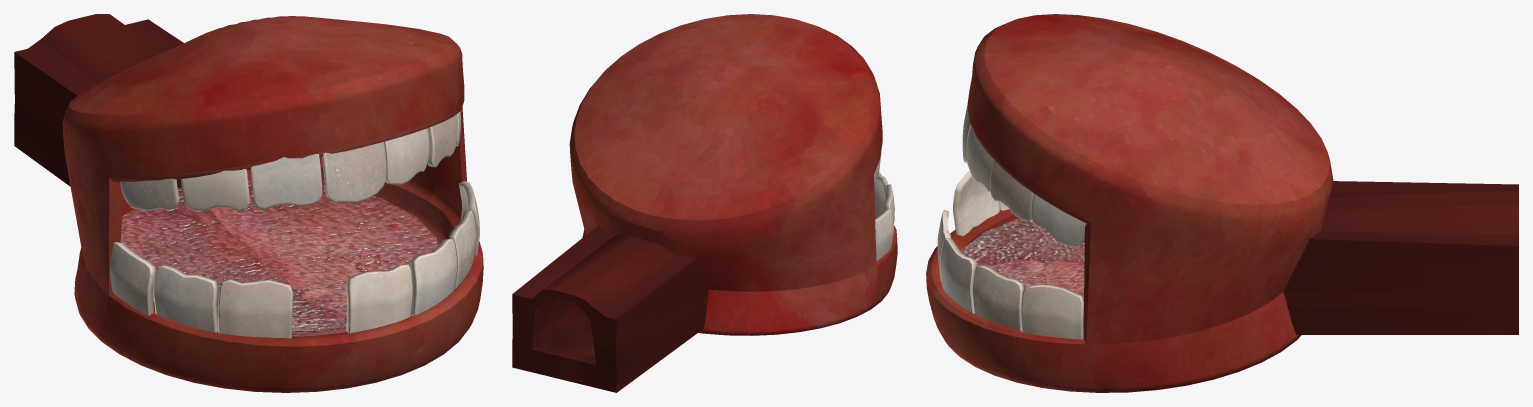
The model's file is MouthRoom-whole.fbx.
The picture shows the model from 3 angles, left to right: view 1: azimuth 30°, elevation 25°; view 2: azimuth 150°, elevation 25°; view 3: azimuth 270°, elevation 25°; orthographic projection. The views are drawn at different scales.
Parts seen in each view (by area): view 1: polySurface89, polySurface85, polySurface88, polySurface100, polySurface87, polySurface95, polySurface94, polySurface91, polySurface86, polySurface97, polySurface99, polySurface98 (+3 smaller); view 2: polySurface89, polySurface86, polySurface88; view 3: polySurface89, polySurface85, polySurface101, polySurface92, polySurface88, polySurface91, polySurface93, polySurface96, polySurface99.
Part boxes in pixels (box(x1,y1,x2,y2)): polySurface89: box(14, 14, 483, 392); polySurface85: box(120, 180, 437, 336); polySurface88: box(218, 279, 293, 338); polySurface100: box(346, 264, 413, 333); polySurface87: box(153, 265, 218, 332); polySurface95: box(250, 154, 322, 209); polySurface94: box(322, 142, 386, 202); polySurface91: box(410, 238, 457, 316); polySurface86: box(110, 242, 155, 315); polySurface97: box(181, 169, 249, 210); polySurface99: box(384, 128, 429, 184); polySurface98: box(120, 178, 179, 210); polySurface89: box(512, 14, 897, 392); polySurface86: box(875, 209, 894, 260); polySurface88: box(874, 171, 888, 216); polySurface89: box(926, 14, 1518, 392); polySurface85: box(961, 218, 1084, 337); polySurface101: box(1020, 284, 1083, 339); polySurface92: box(972, 265, 1024, 330); polySurface88: box(953, 171, 1000, 236); polySurface91: box(940, 238, 977, 313); polySurface93: box(1031, 193, 1086, 246); polySurface96: box(990, 160, 1033, 221); polySurface99: box(966, 126, 993, 191).
Size of the model in its own units: 355 by 279 by 551.
Materials: 3 (3 with a texture image).
